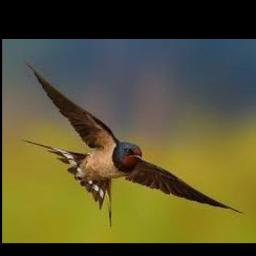Swallow: (21, 59, 243, 226)
